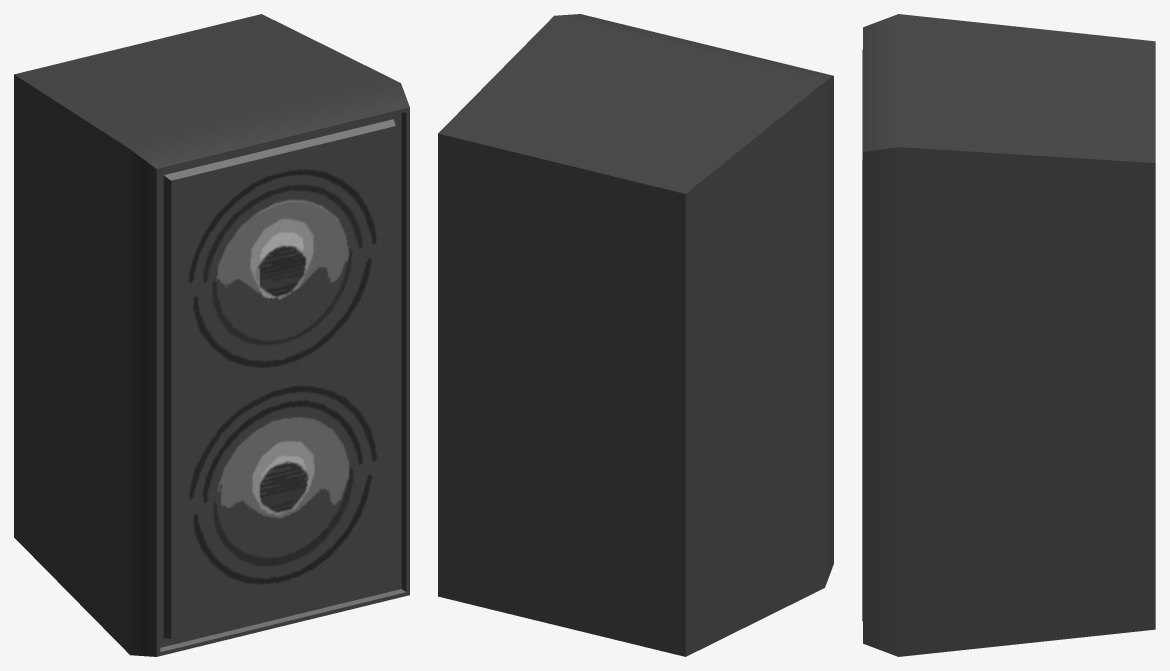
Rendered from speaker.fbx.
The picture shows the model from 3 angles, left to right: view 1: azimuth 30°, elevation 25°; view 2: azimuth 150°, elevation 25°; view 3: azimuth 270°, elevation 25°; orthographic projection.
Parts seen in each view (by area): view 1: pCube1; view 2: pCube1; view 3: pCube1.
Boxes of the visible parts, <box> form: pCube1: <box>14,14,409,656</box>; pCube1: <box>438,14,833,656</box>; pCube1: <box>862,14,1155,656</box>.
Size of the model in its own units: 275 by 491 by 256.
